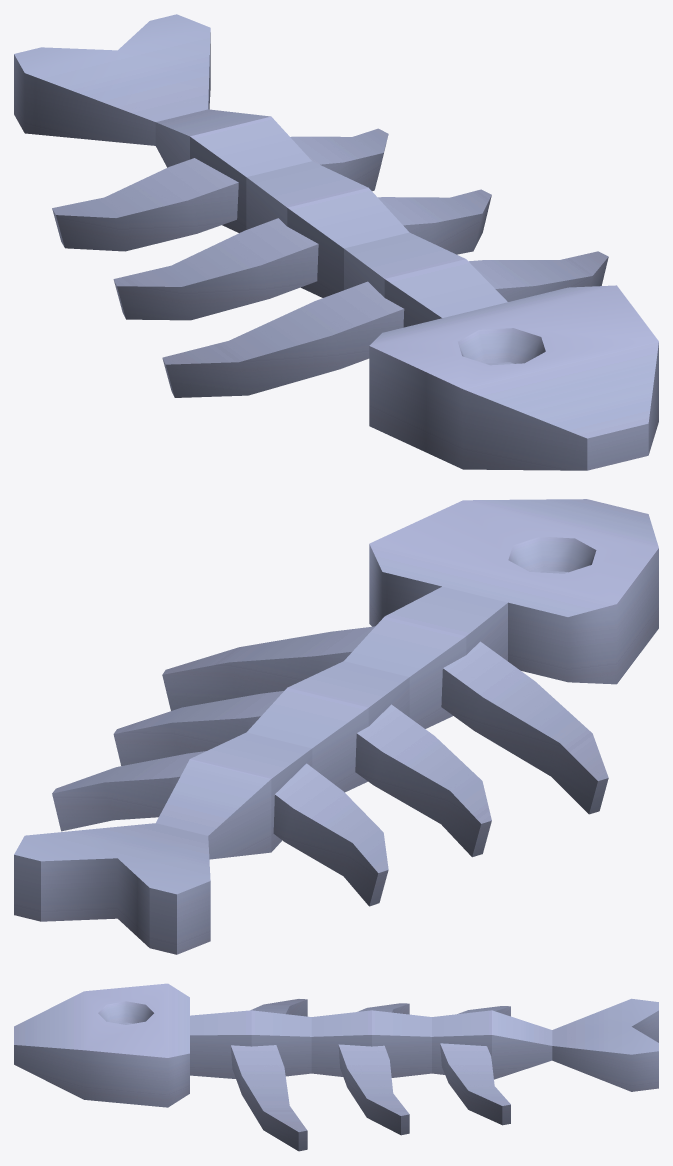
Rendered from fish-bones.glb.
3 views of the same model, one above another, from view 1: azimuth 30°, elevation 25°; view 2: azimuth 150°, elevation 25°; view 3: azimuth 270°, elevation 25° (orthographic). The views are drawn at different scales.
Parts seen in each view (by area): view 1: fish-bones; view 2: fish-bones; view 3: fish-bones.
Part boxes in pixels (<box>): fish-bones: <box>14,14,658,470</box>; fish-bones: <box>14,499,658,954</box>; fish-bones: <box>14,983,658,1151</box>.
Bounding box in the file's own units: 0.3113 × 0.0726 × 0.6358.
Materials: 1 (1 with a texture image).
